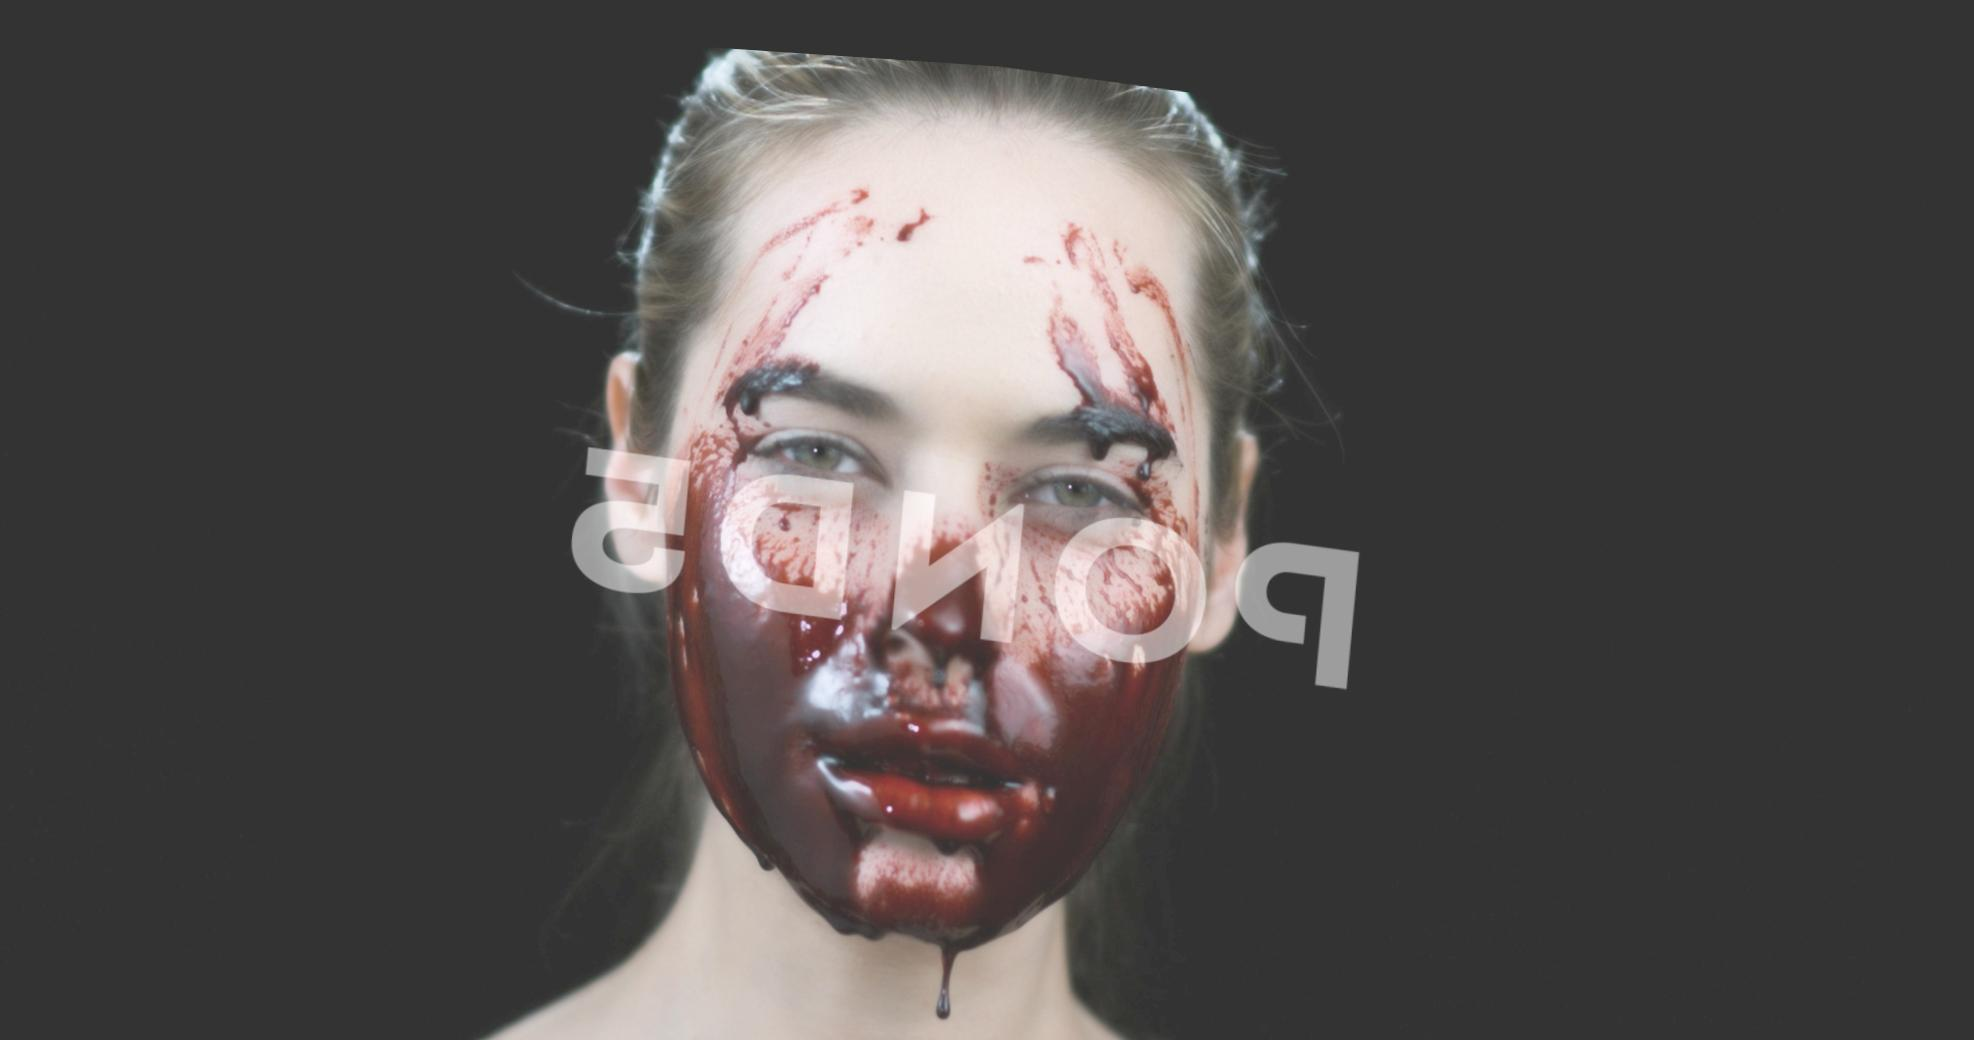Fire: (657, 158, 1208, 1010)
